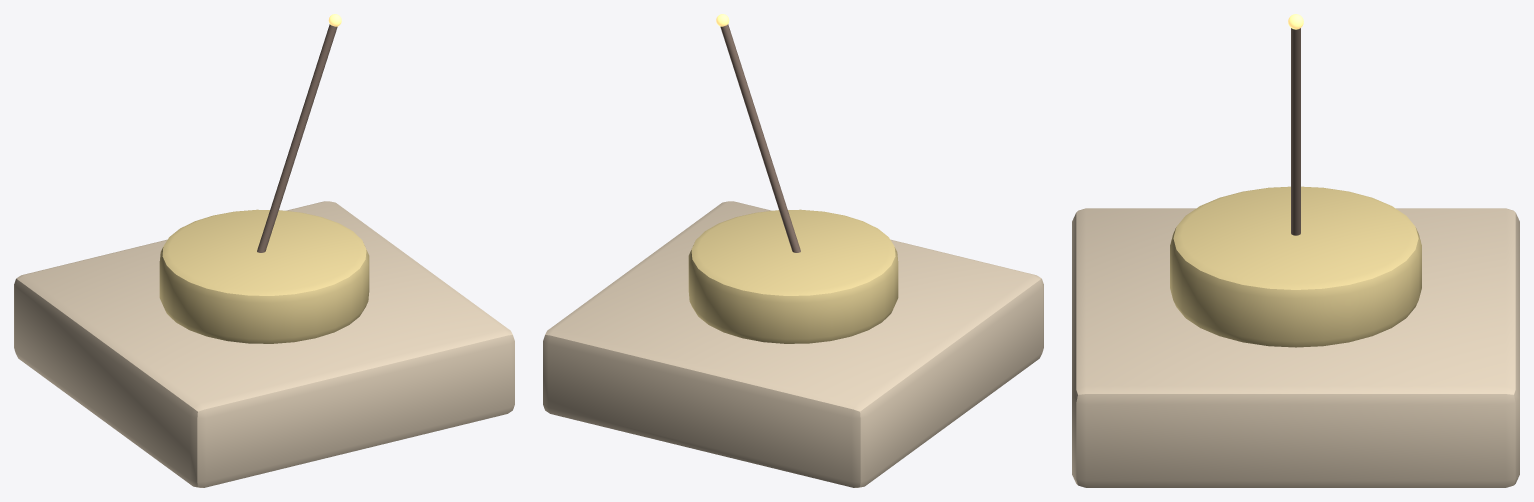
Rendered from hinoki-incense-burner.glb.
The picture shows the model from 3 angles, left to right: view 1: azimuth 30°, elevation 25°; view 2: azimuth 150°, elevation 25°; view 3: azimuth 270°, elevation 25°; orthographic projection. The views are drawn at different scales.
Visible parts, largest first — view 1: incense_HinokiBlock, incense_BrassBowl, incense_Stick; view 2: incense_HinokiBlock, incense_BrassBowl, incense_Stick; view 3: incense_HinokiBlock, incense_BrassBowl, incense_Stick.
Boxes of the visible parts, x1,y1,x2,y2 form: incense_HinokiBlock: (14, 201, 514, 487); incense_BrassBowl: (159, 209, 369, 343); incense_Stick: (257, 24, 337, 252); incense_HinokiBlock: (543, 201, 1043, 487); incense_BrassBowl: (688, 209, 898, 343); incense_Stick: (720, 24, 800, 252); incense_HinokiBlock: (1072, 208, 1519, 487); incense_BrassBowl: (1170, 186, 1421, 347); incense_Stick: (1291, 28, 1300, 235).
Size of the model in its own units: 0.16 by 0.1678 by 0.16.
